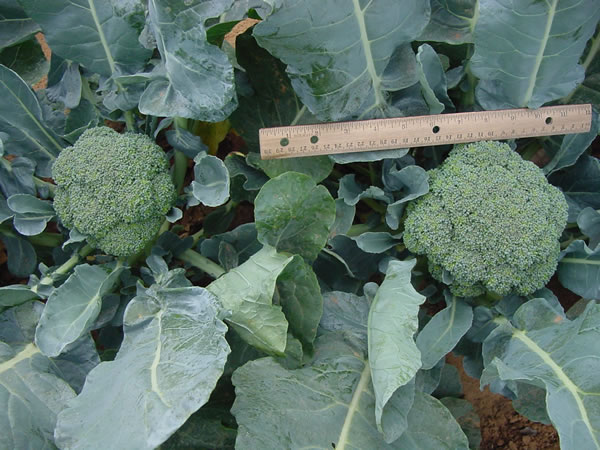broccoli: (403, 141, 569, 298), (48, 123, 175, 262)
